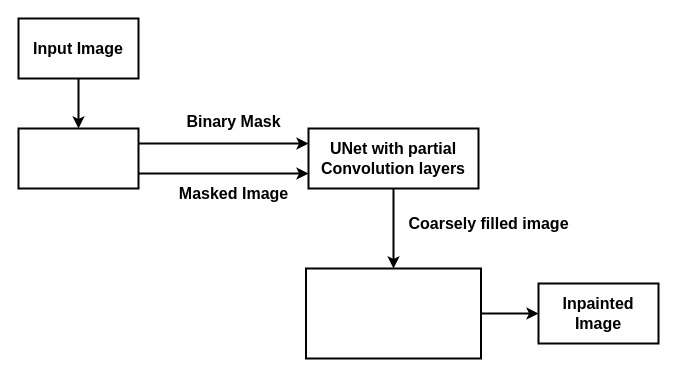
This 676x376 diagram has some shape labels left out. The shapes that lost their labels are listed below. From the top down, each one's centre as x and y in pixels, then its label:
pixel 78 158: Mask Generation
pixel 393 313: Attention based Autoencoder for refinement
